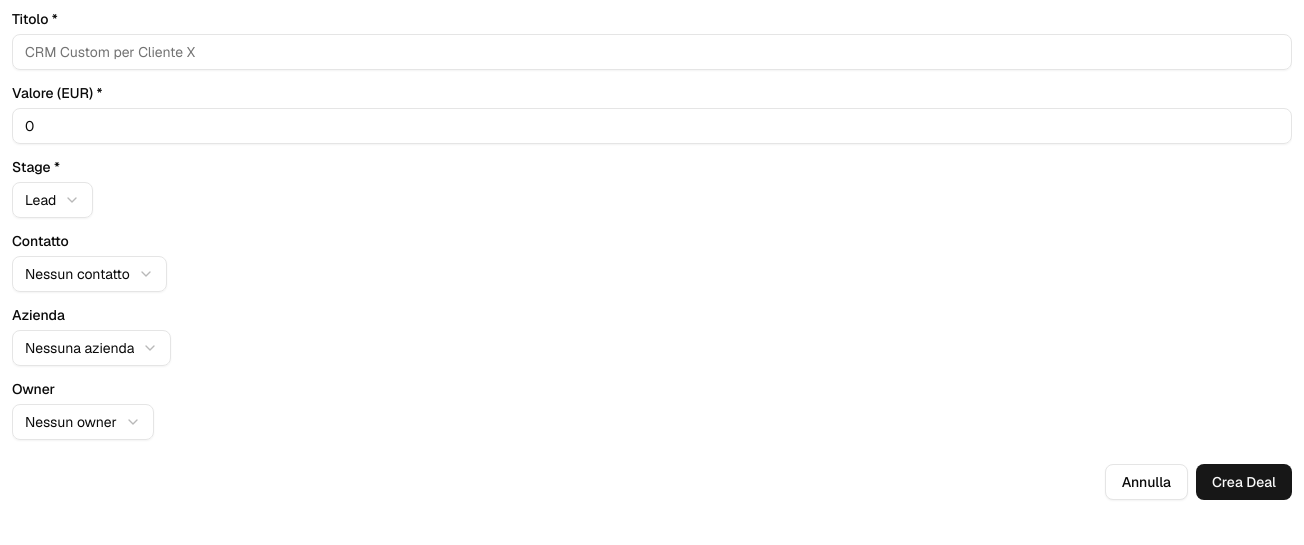
Test: DealForm › shows validation error for invalid value
This screenshot has width=1304, height=545.
In the field with placeholder "CRM Custom per Cliente X": (652, 52) [12,34,1292,70], type "Test Deal"
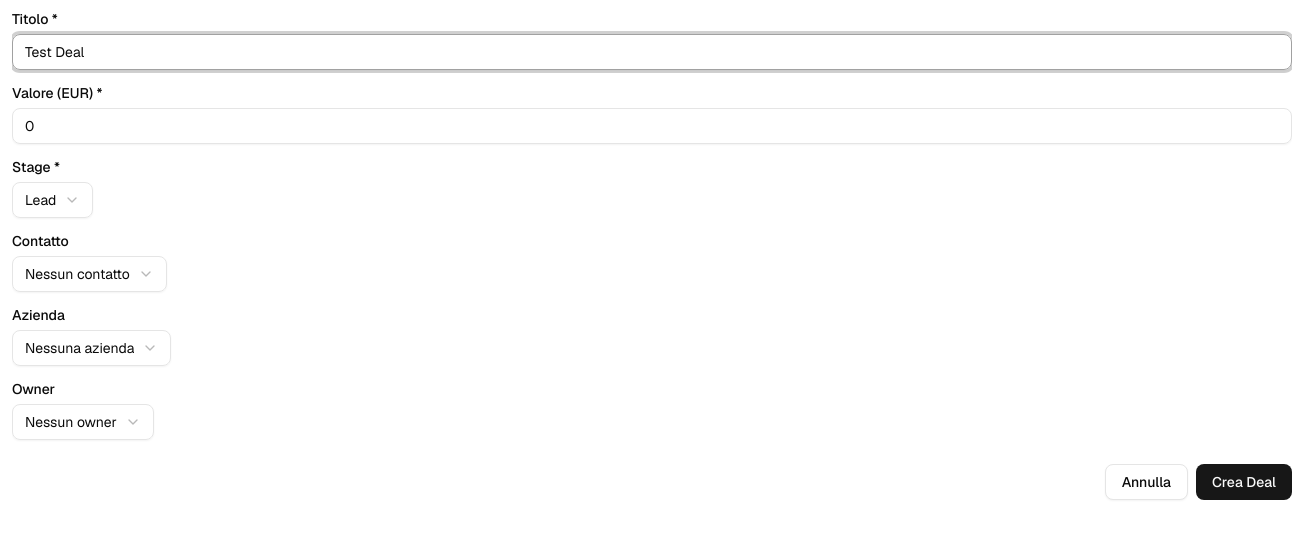
Clear the number field: (652, 126) [12,108,1292,144]
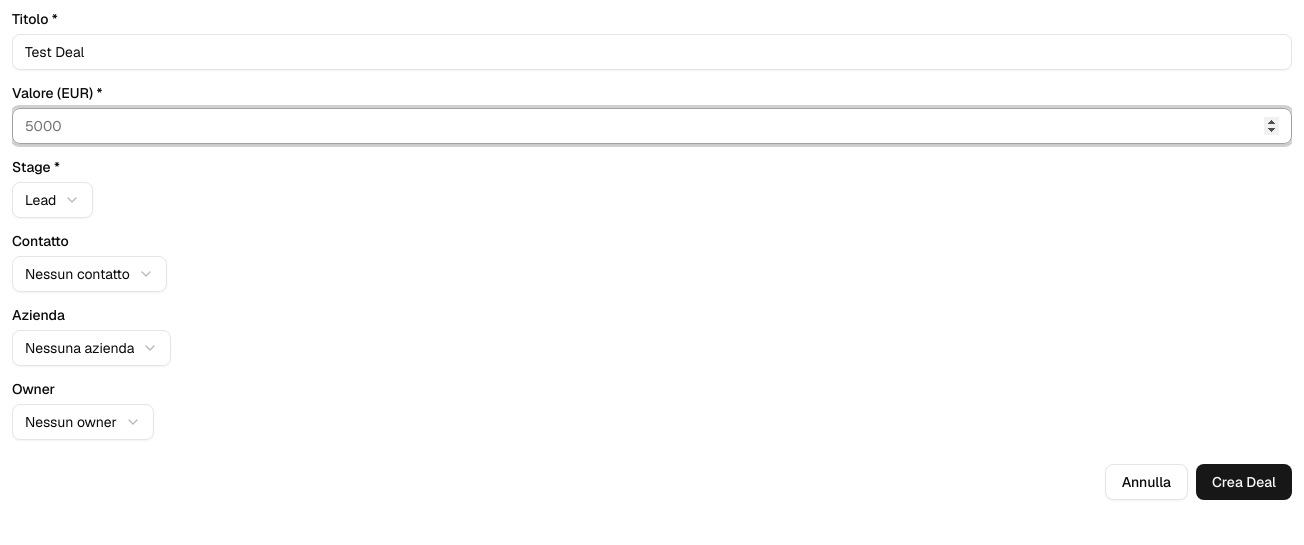
Click the button "Crea Deal": (1244, 482) [1196,464,1292,500]
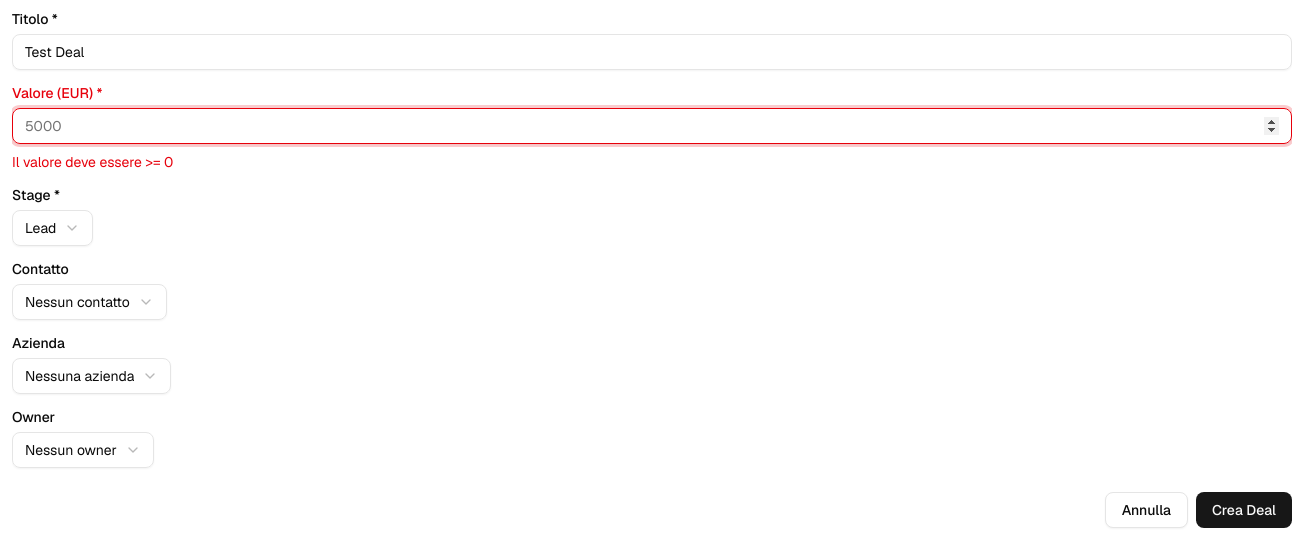
expect the text "Il valore deve essere >= 0" is shown: met, box [12,153,173,171]
